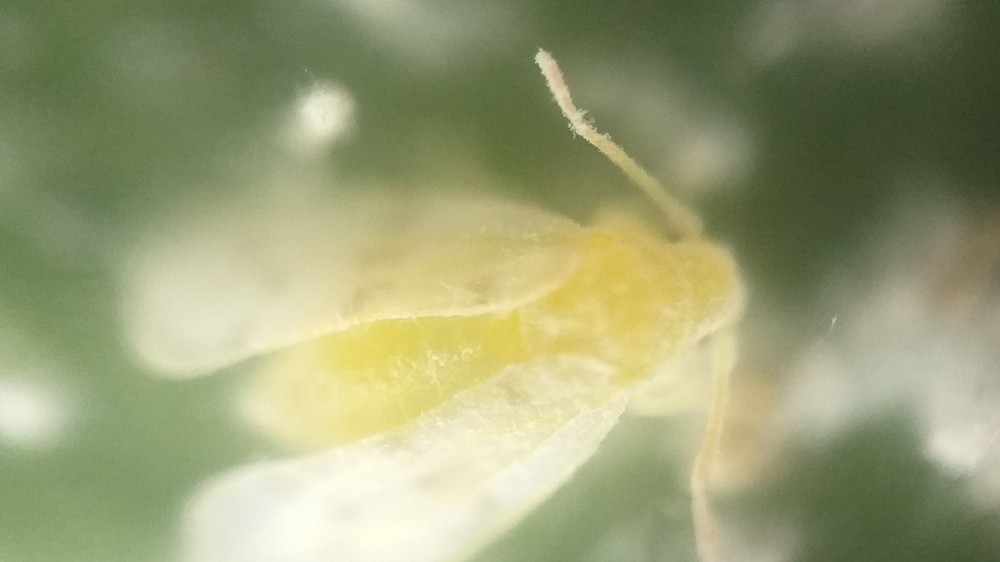Mosca Blanca: (118, 42, 769, 562)
